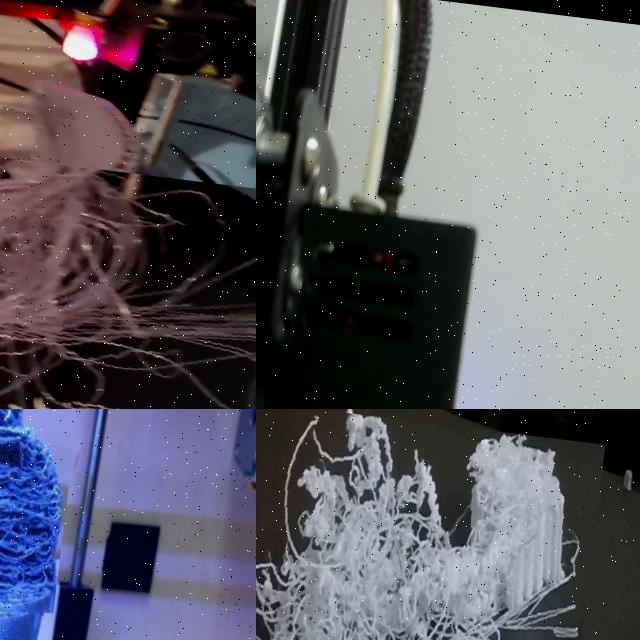spaghetti: (256, 409, 605, 640), (0, 117, 256, 409), (0, 409, 78, 630)
